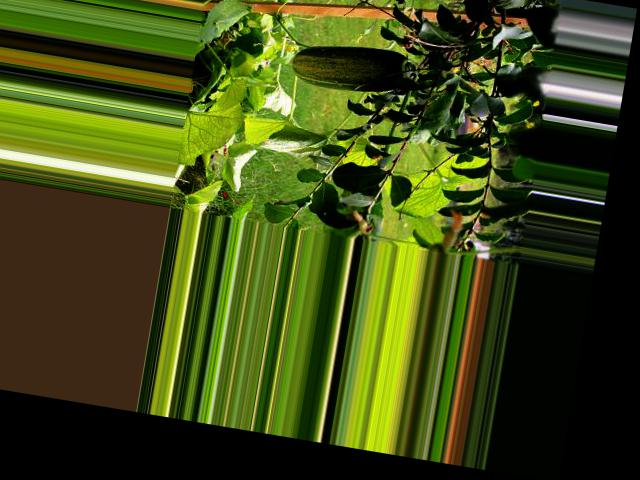cucumber: (289, 33, 421, 100)
